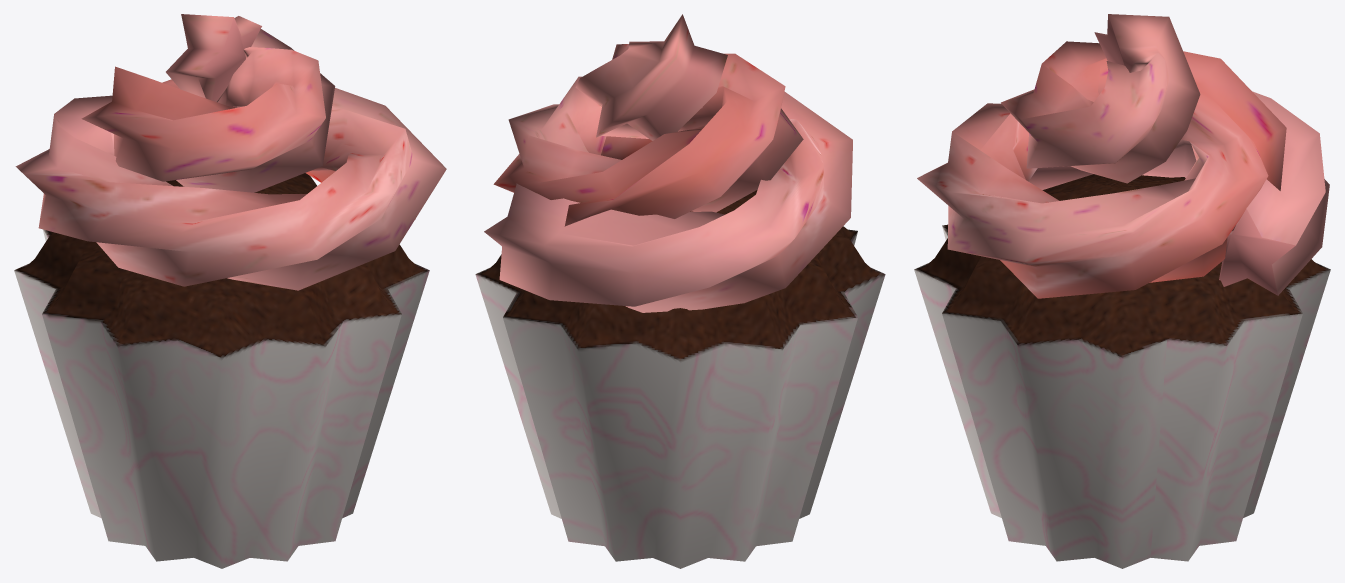
The model's file is cupcake.fbx.
3 renders of one model, left to right at view 1: azimuth 30°, elevation 25°; view 2: azimuth 150°, elevation 25°; view 3: azimuth 270°, elevation 25°, orthographic.
Visible parts, largest first — view 1: hi; view 2: hi; view 3: hi.
Part boxes in pixels (left/top/right/bottom): hi: left=14, top=14, right=446, bottom=568; hi: left=475, top=14, right=885, bottom=568; hi: left=914, top=14, right=1330, bottom=568.
Bounding box in the file's own units: 4.47 × 5.93 × 4.47.
Materials: 1 (1 with a texture image).
